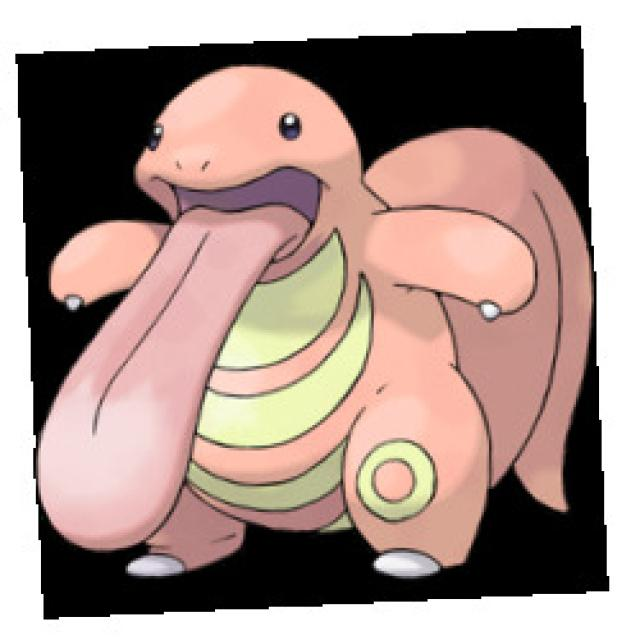Lickitung: (42, 68, 577, 581)
